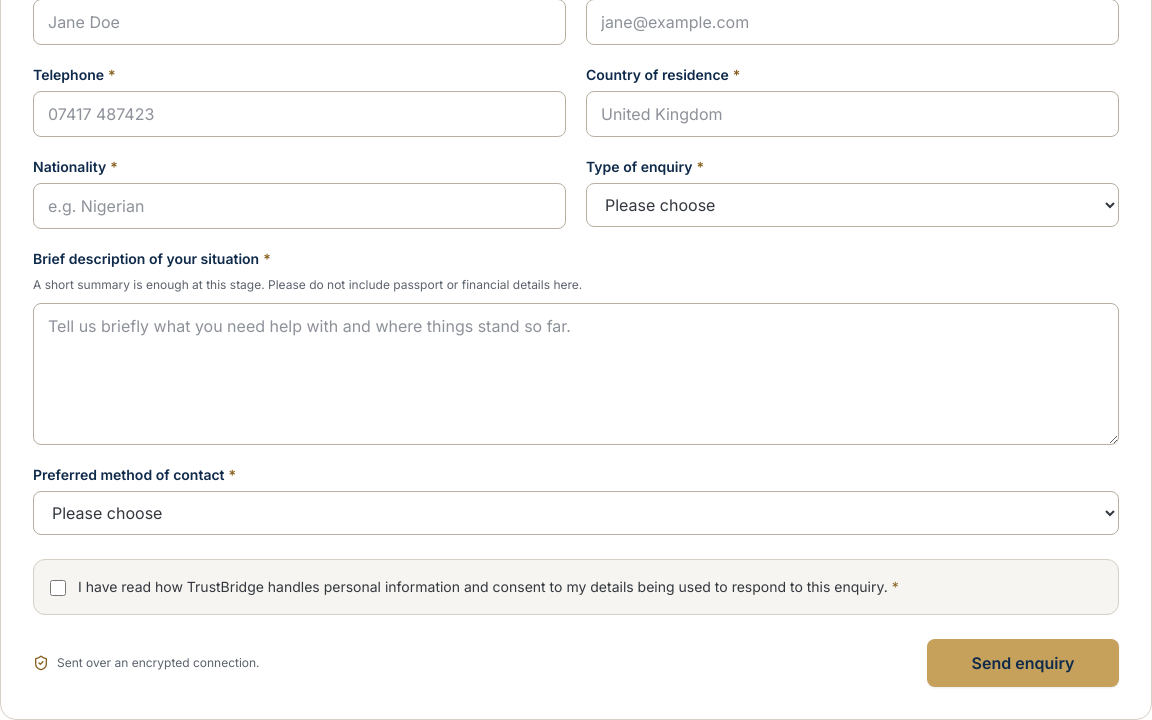
EnquiryForm › does not submit when fields are empty
The image size is (1152, 720).
(page scrolled)
Click the button "Send enquiry": (1023, 663) [927,639,1119,687]
(page scrolled)
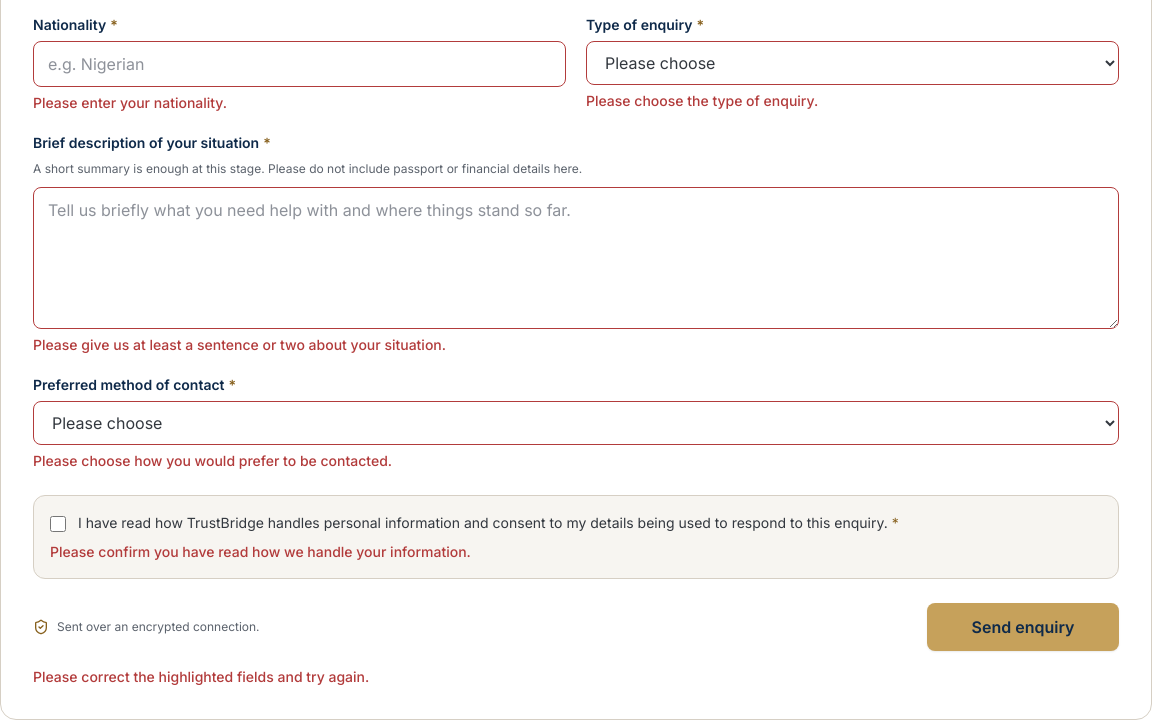
Now the text "Please correct the highlighted fields and try again." is shown, box [33,668,369,685]
